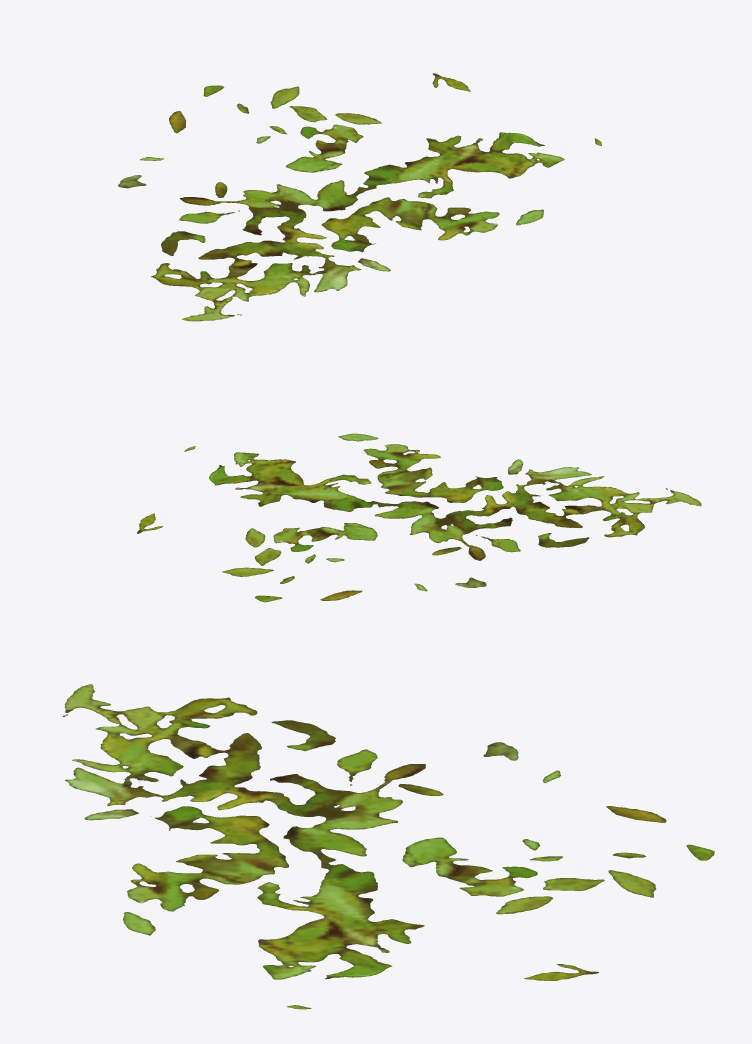
The model's file is S_Plant_Green019_a.FBX.
The picture shows the model from 3 angles, top to bottom: view 1: azimuth 30°, elevation 25°; view 2: azimuth 150°, elevation 25°; view 3: azimuth 270°, elevation 25°; orthographic projection. The views are drawn at different scales.
Parts seen in each view (by area): view 1: S_Plant_Green019_a; view 2: S_Plant_Green019_a; view 3: S_Plant_Green019_a.
Boxes of the visible parts, <box> form: S_Plant_Green019_a: <box>118,73,601,321</box>; S_Plant_Green019_a: <box>137,433,701,602</box>; S_Plant_Green019_a: <box>63,684,714,1009</box>.
Size of the model in its own units: 255 by 0.0864 by 221.
Materials: 1 (1 with a texture image).
